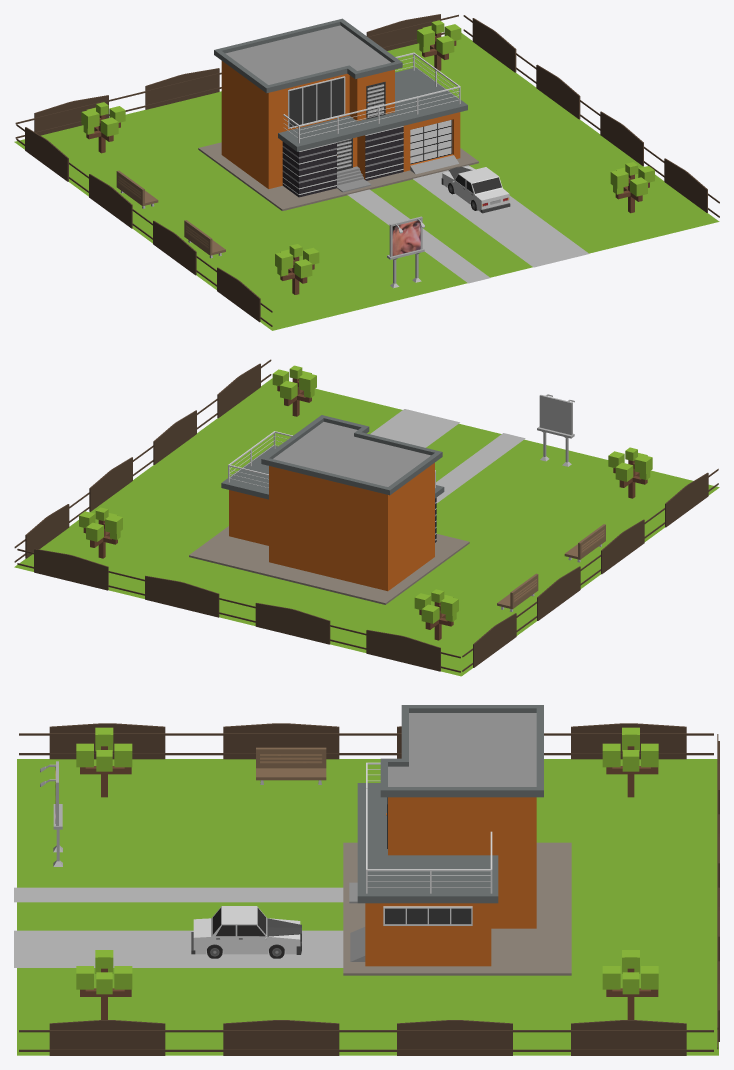
The model's file is house2.gltf.
3 renders of one model, top to bottom at view 1: azimuth 30°, elevation 25°; view 2: azimuth 150°, elevation 25°; view 3: azimuth 270°, elevation 25°, orthographic. The views are drawn at different scales.
Parts seen in each view (by area): view 1: Natures_Grass Tile_Plane.010, Building_House_02_color01_Cube.029, Props_Fence_Cube.027 (×3), Road Tile_Plane.003 (×2), Natures_Cube Tree_Cube.017 (×4), Vehicle_Car_Cube.050, Props_BillBoard_medium_Cube.543, Props_Bench_2_Cube.022 (×2); view 2: Natures_Grass Tile_Plane.010, Building_House_02_color01_Cube.029, Props_Fence_Cube.027 (×3), Natures_Cube Tree_Cube.017 (×4), Road Tile_Plane.003 (×2), Props_BillBoard_medium_Cube.543, Props_Bench_2_Cube.022 (×2); view 3: Natures_Grass Tile_Plane.010, Building_House_02_color01_Cube.029, Props_Fence_Cube.027 (×3), Road Tile_Plane.003 (×2), Natures_Cube Tree_Cube.017 (×4), Vehicle_Car_Cube.050, Props_Bench_2_Cube.022, Props_BillBoard_medium_Cube.543.
Boxes of the visible parts, x1,y1,x2,y2 form: Natures_Grass Tile_Plane.010: (14,33,719,330); Building_House_02_color01_Cube.029: (198,18,478,210); Props_Fence_Cube.027 (×3): (15,14,719,326); Road Tile_Plane.003 (×2): (347,165,588,283); Natures_Cube Tree_Cube.017 (×4): (81,20,654,294); Vehicle_Car_Cube.050: (441,166,510,213); Props_BillBoard_medium_Cube.543: (387,216,424,288); Props_Bench_2_Cube.022 (×2): (116,170,225,258); Natures_Grass Tile_Plane.010: (14,378,719,676); Building_House_02_color01_Cube.029: (189,415,469,604); Props_Fence_Cube.027 (×3): (14,359,718,672); Natures_Cube Tree_Cube.017 (×4): (79,365,652,640); Road Tile_Plane.003 (×2): (370,409,525,503); Props_BillBoard_medium_Cube.543: (537,394,574,466); Props_Bench_2_Cube.022 (×2): (497,524,605,611); Natures_Grass Tile_Plane.010: (17,759,718,1055); Building_House_02_color01_Cube.029: (343,705,571,975); Props_Fence_Cube.027 (×3): (19,723,719,1055); Road Tile_Plane.003 (×2): (14,887,343,967); Natures_Cube Tree_Cube.017 (×4): (76,727,658,1019); Vehicle_Car_Cube.050: (191,906,301,958); Props_Bench_2_Cube.022: (256,747,326,784); Props_BillBoard_medium_Cube.543: (40,761,62,866).
Size of the model in its own units: 40.16 by 9.05 by 40.22.
Materials: 8 (8 with a texture image).
